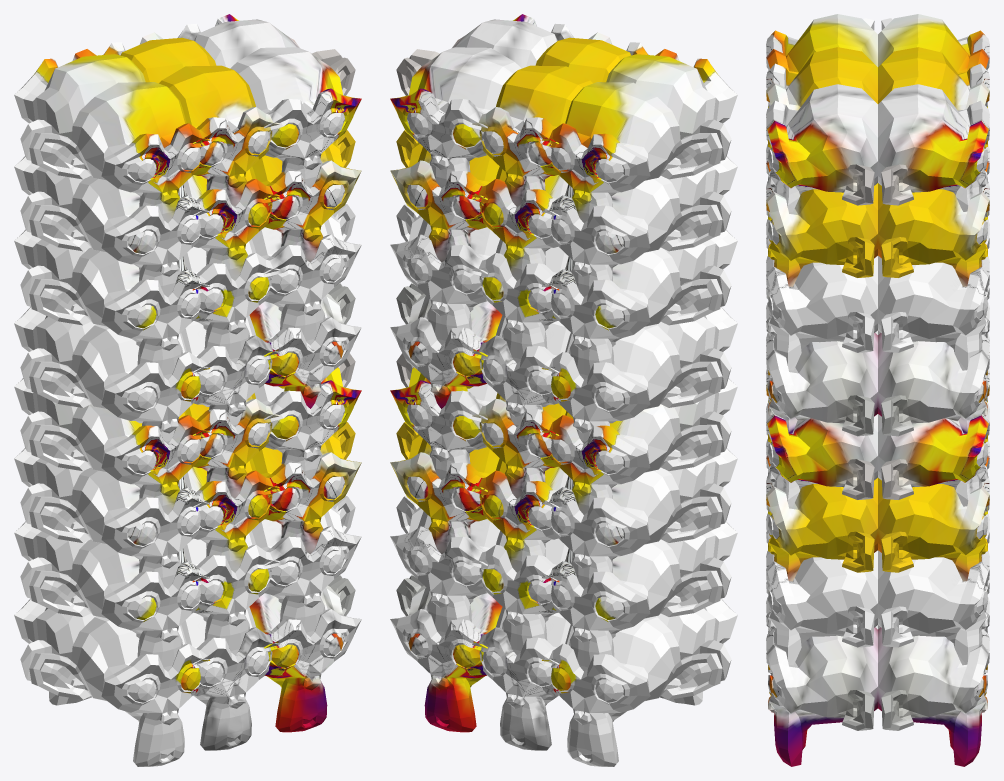
Rendered from heatmap.glb.
The picture shows the model from 3 angles, left to right: view 1: azimuth 30°, elevation 25°; view 2: azimuth 150°, elevation 25°; view 3: azimuth 270°, elevation 25°; orthographic projection.
Visible parts, largest first — view 1: Suzanne.002, Suzanne.011, Suzanne.003, Suzanne.001; view 2: Suzanne.003, Suzanne.001, Suzanne.002, Suzanne.011; view 3: Suzanne.002, Suzanne.003, Suzanne.011, Suzanne.001.
Part boxes in pixels (<box>): Suzanne.002: <box>29,47,361,443</box>; Suzanne.011: <box>29,353,361,766</box>; Suzanne.003: <box>14,14,342,389</box>; Suzanne.001: <box>14,378,342,705</box>; Suzanne.003: <box>390,47,722,443</box>; Suzanne.001: <box>390,353,722,766</box>; Suzanne.002: <box>409,14,737,389</box>; Suzanne.011: <box>409,378,737,705</box>; Suzanne.002: <box>766,14,877,436</box>; Suzanne.003: <box>878,14,989,436</box>; Suzanne.011: <box>766,333,877,766</box>; Suzanne.001: <box>878,333,989,766</box>.
Size of the model in its own units: 4.87 by 9.44 by 2.88.
Materials: 1 (1 with a texture image).
